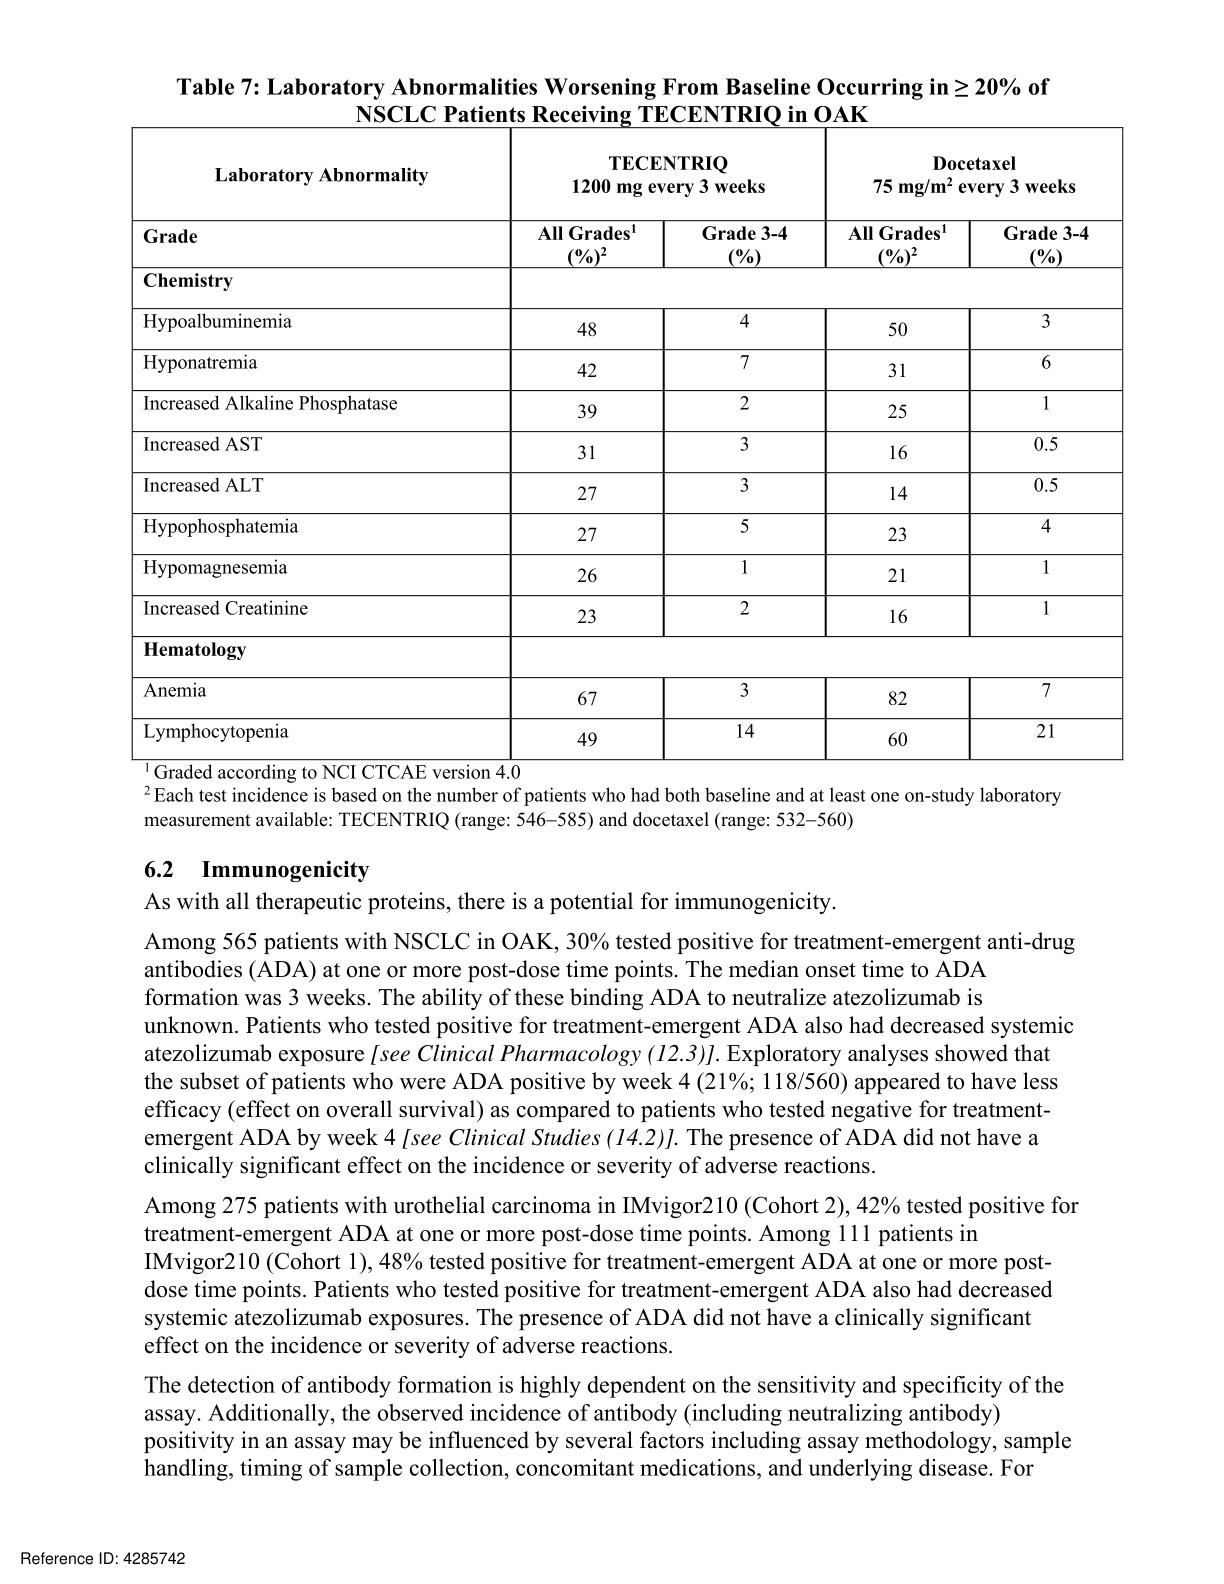merged_cells: (129, 126, 1124, 762)
